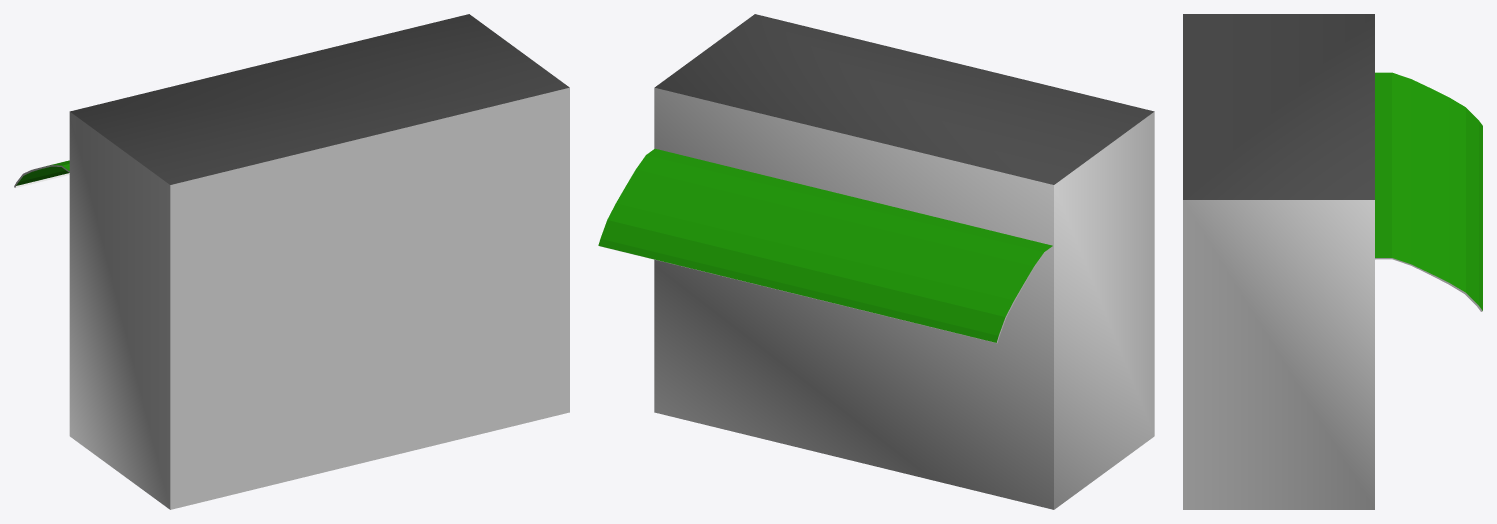
File: Lojinha.fbx
3 renders of one model, left to right at view 1: azimuth 30°, elevation 25°; view 2: azimuth 150°, elevation 25°; view 3: azimuth 270°, elevation 25°, orthographic. The views are drawn at different scales.
Parts seen in each view (by area): view 1: Lojinha; view 2: Lojinha; view 3: Lojinha.
Boxes of the visible parts, x1,y1,x2,y2 form: Lojinha: [14, 14, 569, 509]; Lojinha: [598, 14, 1154, 509]; Lojinha: [1183, 14, 1482, 509].
Bounding box in the file's own units: 1296 × 1007 × 883.
